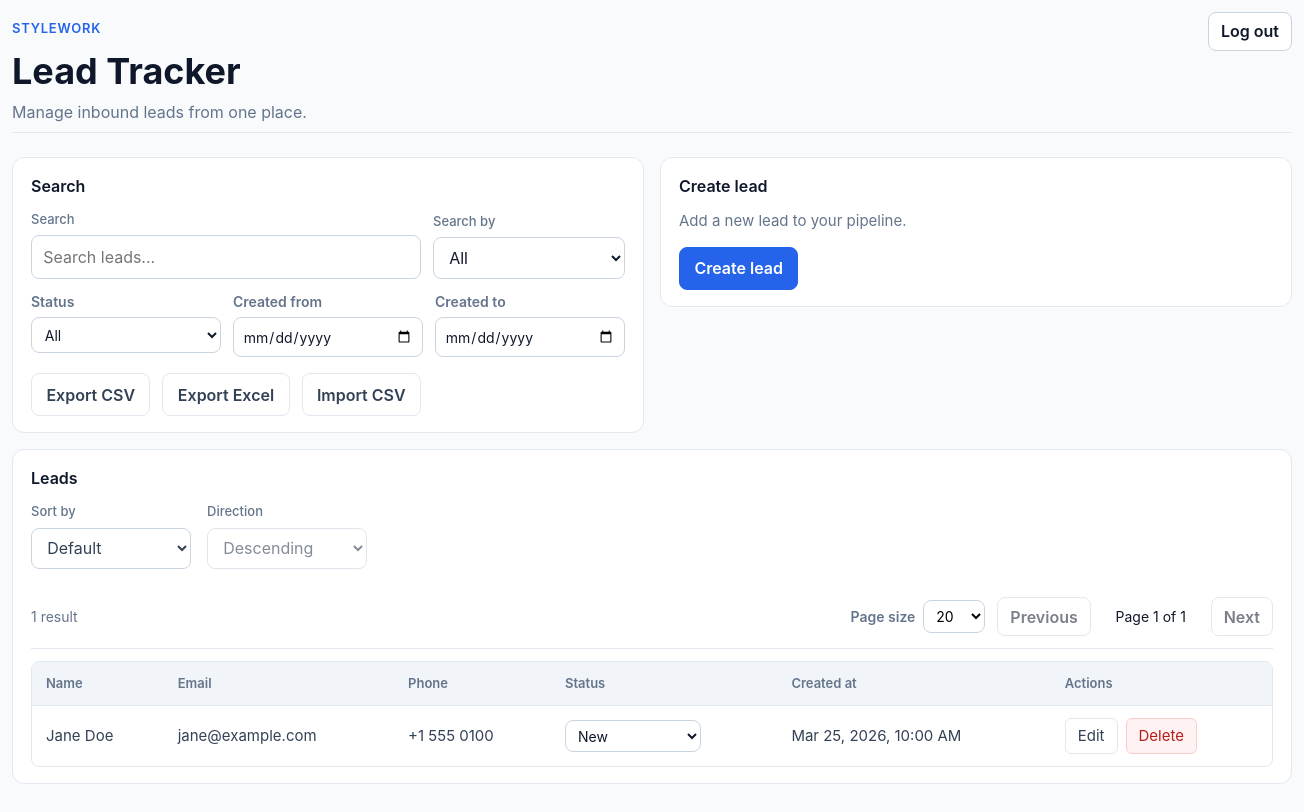
it: LeadTrackerPage › lead list › shows no-results state when searching
This screenshot has width=1304, height=812.
Expected: the text "Jane Doe" is shown, [32,706,164,766]
Step 1. Type "nomatch" into the search field with placeholder "Search leads..." → (226, 257), box [31,235,421,279]
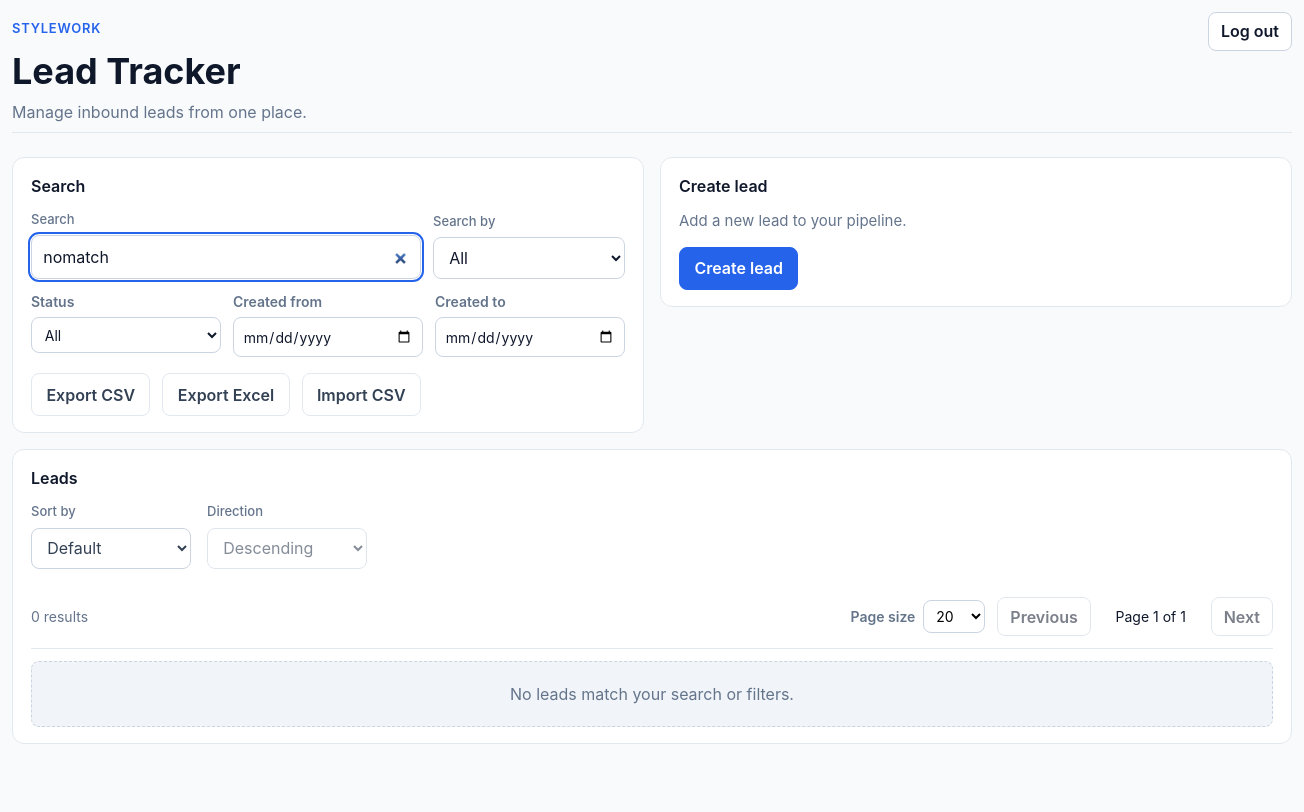
Now the text "No leads match your search or filters." is shown, box [510,684,794,704]
